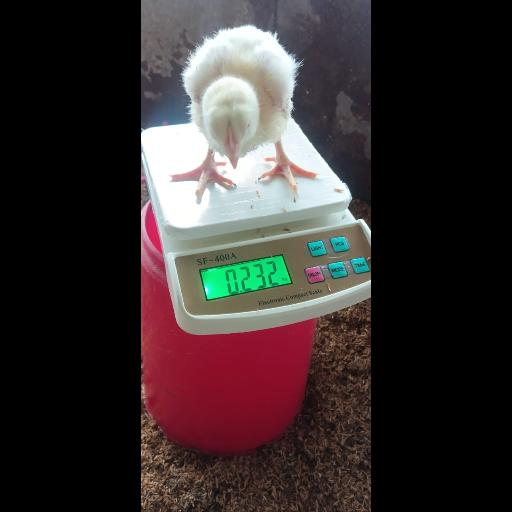chick: (172, 25, 318, 197)
